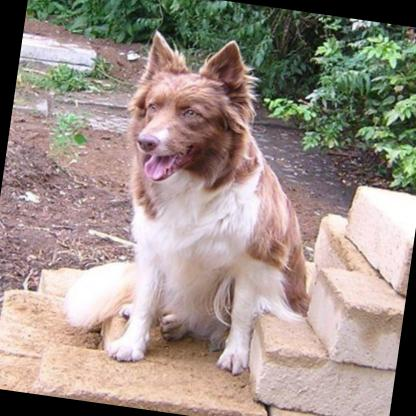collie: (56, 17, 346, 388)
